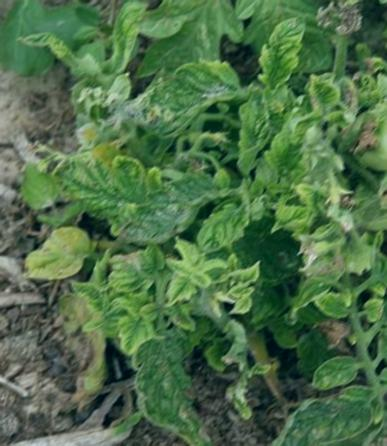Tomato leaf yellow virus: (44, 155, 172, 231), (148, 62, 244, 146), (132, 363, 203, 446), (259, 123, 317, 196), (194, 202, 256, 254), (264, 19, 304, 96), (306, 353, 368, 401), (114, 309, 162, 361), (271, 211, 325, 240), (311, 293, 357, 322), (168, 274, 194, 307), (363, 293, 387, 323)
